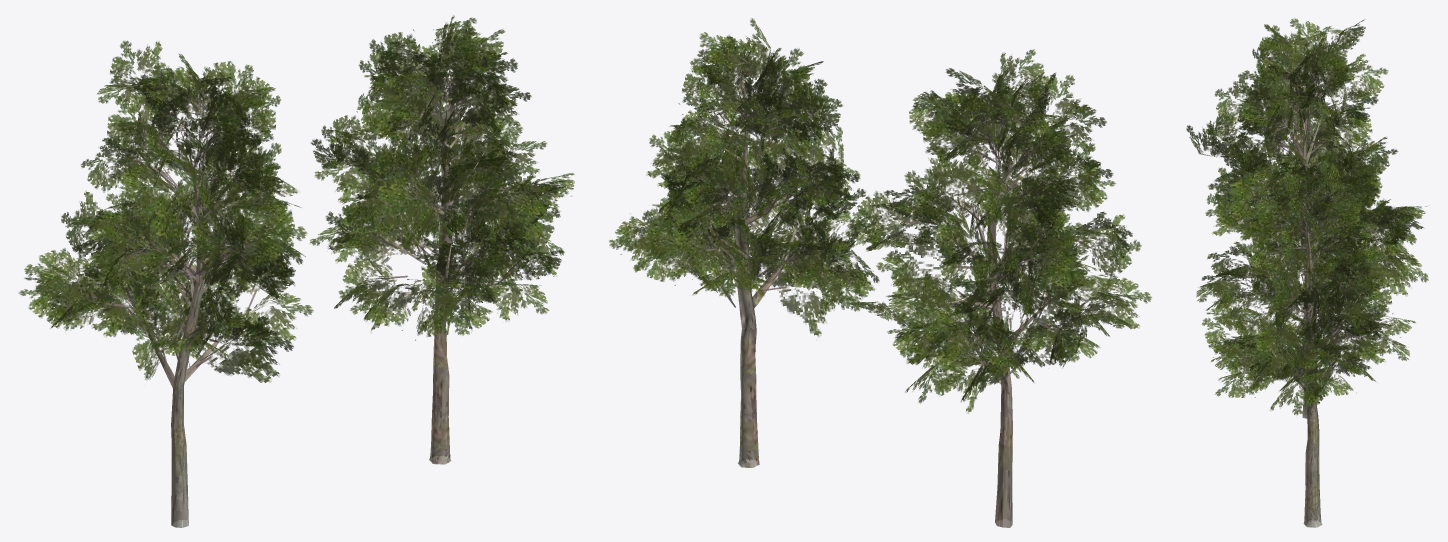
The model's file is tree-C6oTQxOS.glb.
The picture shows the model from 3 angles, left to right: view 1: azimuth 30°, elevation 25°; view 2: azimuth 150°, elevation 25°; view 3: azimuth 270°, elevation 25°; orthographic projection. The views are drawn at different scales.
Parts seen in each view (by area): view 1: Tree_1, Tree_2; view 2: Tree_1, Tree_2; view 3: Tree_2, Tree_1.
Part boxes in pixels (x1=…): Tree_1: x1=18, y1=40, x2=313, y2=527; Tree_2: x1=310, y1=15, x2=574, y2=464; Tree_1: x1=845, y1=49, x2=1151, y2=527; Tree_2: x1=609, y1=18, x2=879, y2=467; Tree_2: x1=1196, y1=152, x2=1417, y2=527; Tree_1: x1=1186, y1=18, x2=1428, y2=418.
Bounding box in the file's own units: 10.73 × 8.99 × 5.21.
Materials: 1 (1 with a texture image).
